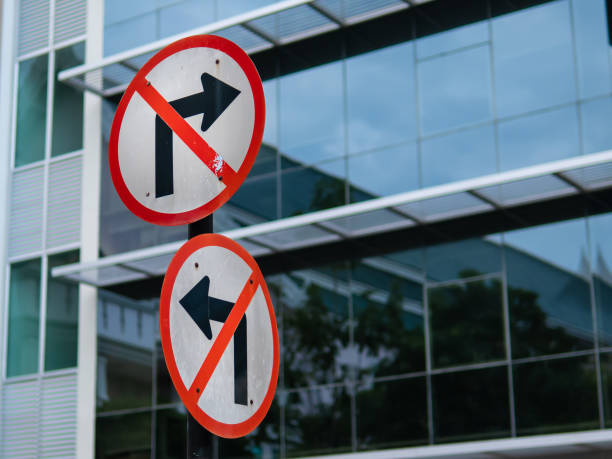saga_girilmez: (105, 36, 273, 219)
sola_girilmez: (157, 238, 281, 439)
